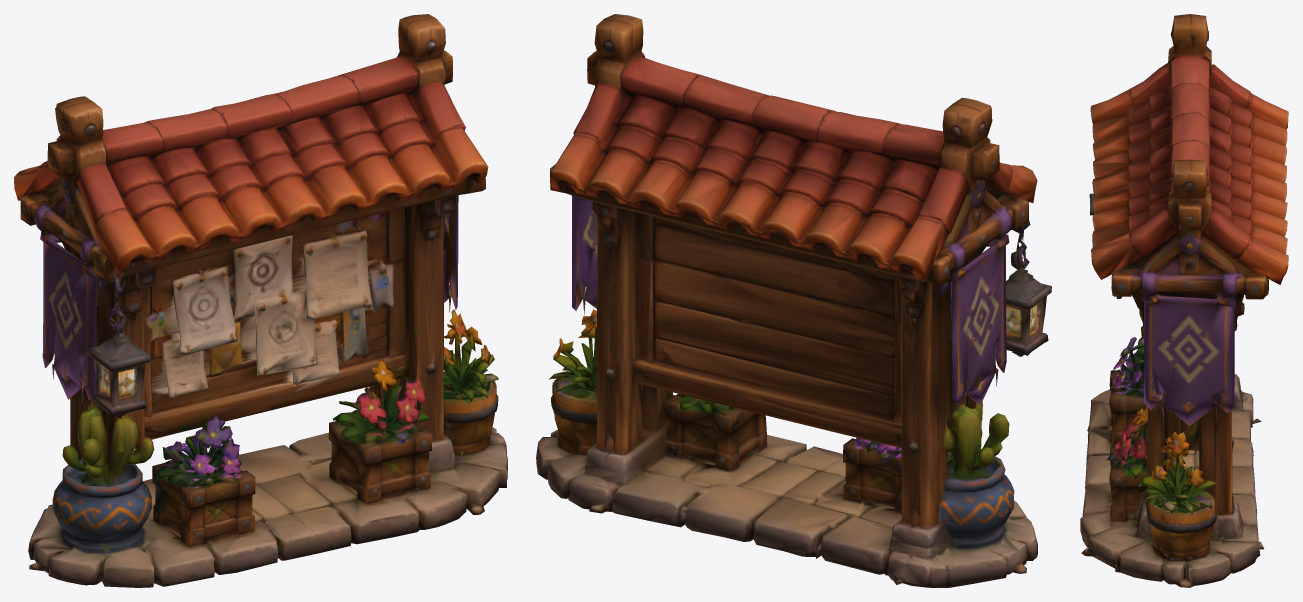
File: tablon_de_anuncios_de_madera.glb
3 renders of one model, left to right at view 1: azimuth 30°, elevation 25°; view 2: azimuth 150°, elevation 25°; view 3: azimuth 270°, elevation 25°, orthographic. The views are drawn at different scales.
Parts seen in each view (by area): view 1: tablon_de_anuncios_de_madera; view 2: tablon_de_anuncios_de_madera; view 3: tablon_de_anuncios_de_madera.
Part boxes in pixels (bbox=[...]): tablon_de_anuncios_de_madera: bbox=[14, 14, 507, 587]; tablon_de_anuncios_de_madera: bbox=[536, 14, 1051, 587]; tablon_de_anuncios_de_madera: bbox=[1080, 14, 1288, 587].
Size of what is drawn, in the model's own units: 2.2 by 2 by 0.9589.
1 material, 1 textured.
